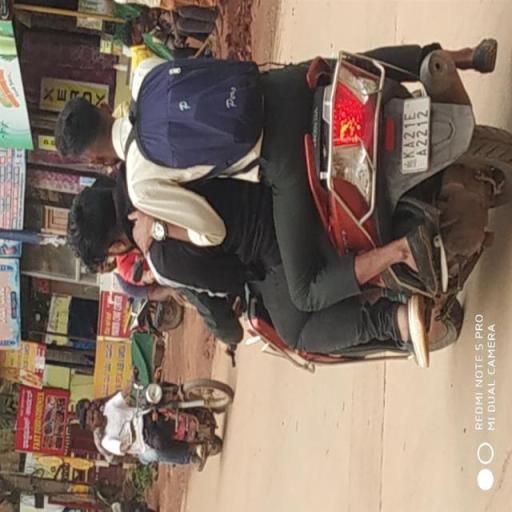tripple riding: (54, 49, 294, 308)
